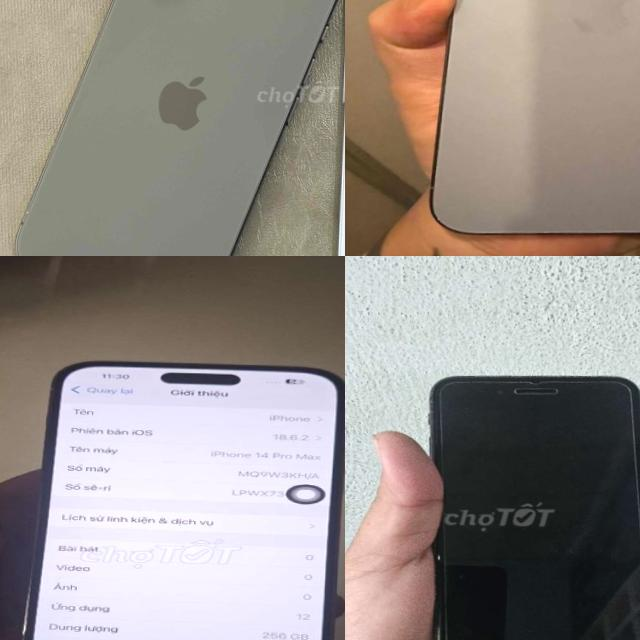gen_12_13: (415, 0, 640, 256)
gen_14: (22, 353, 345, 640)
gen_17: (15, 0, 336, 256)
gen_7_8: (414, 363, 640, 640)
